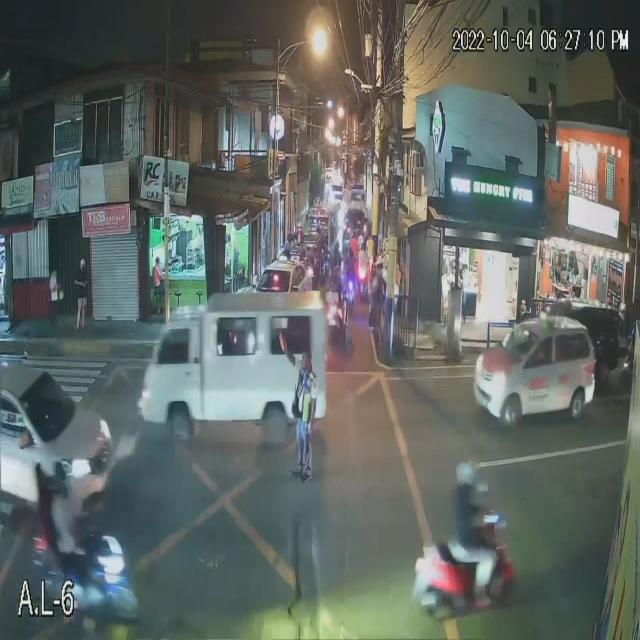Full-Faced: (451, 453, 484, 493), (52, 452, 76, 490)
